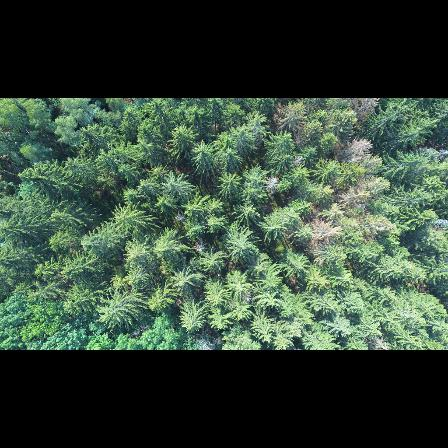Dead: (305, 215, 340, 254), (336, 136, 371, 162), (339, 185, 382, 206), (263, 172, 280, 194), (191, 237, 206, 255)
